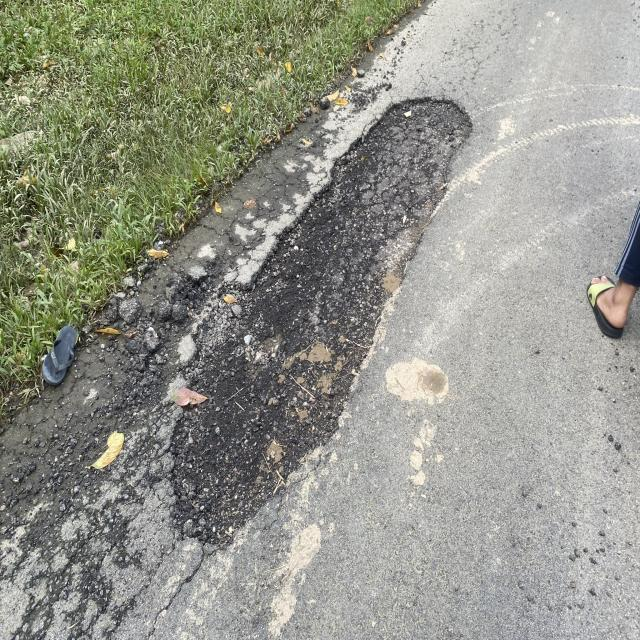Pothole: (130, 50, 498, 582)
